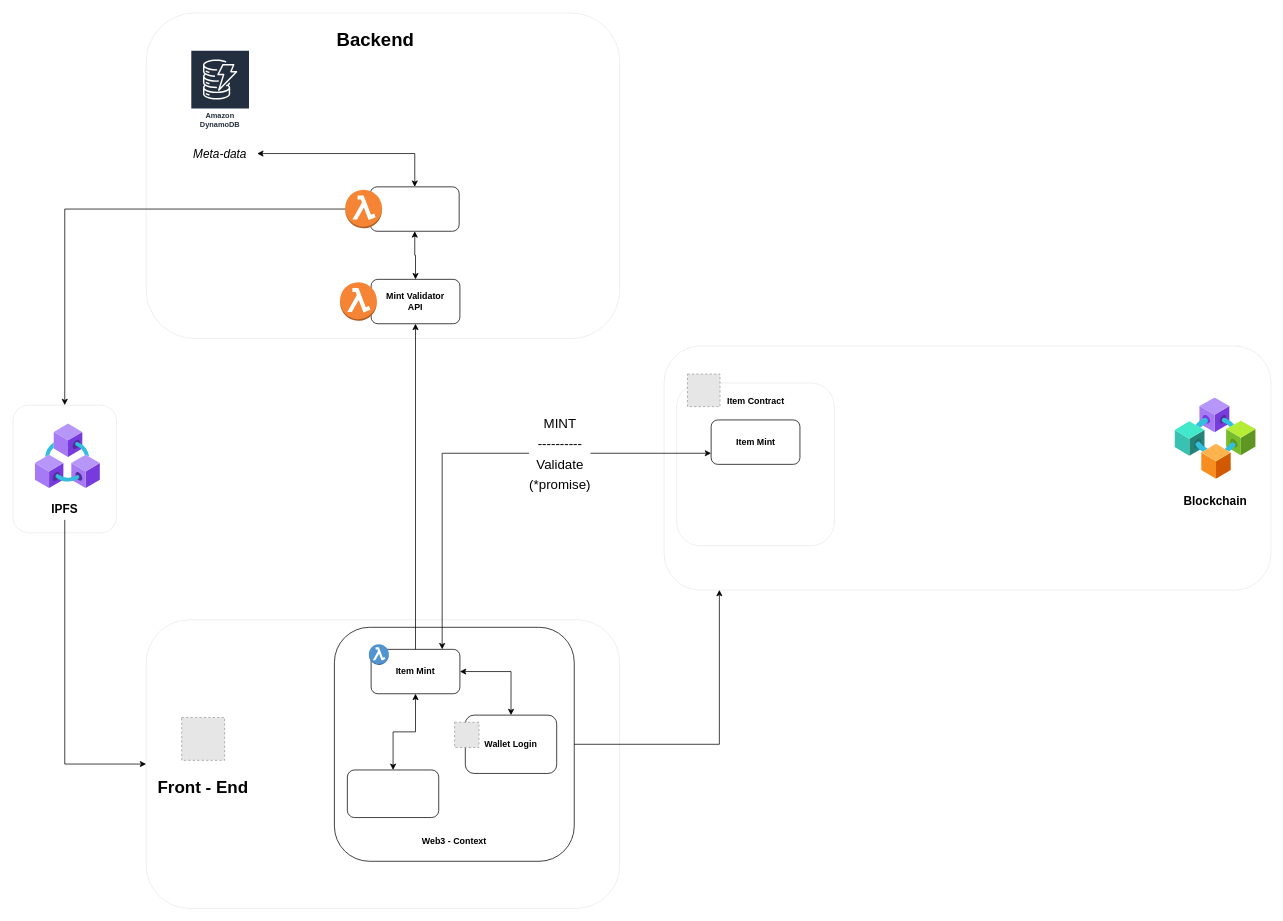
The diagram is 1283 pixels wide and 921 high, and some of its shapes have lost their labels. Grey dashed boxes stand in for pictures. The shapes that lost their labels are listed below. From the top down, each one's centre as x and y in pixels, then its label:
pixel 414 208: Meta Data Creator
pixel 393 793: Contract ABIs
